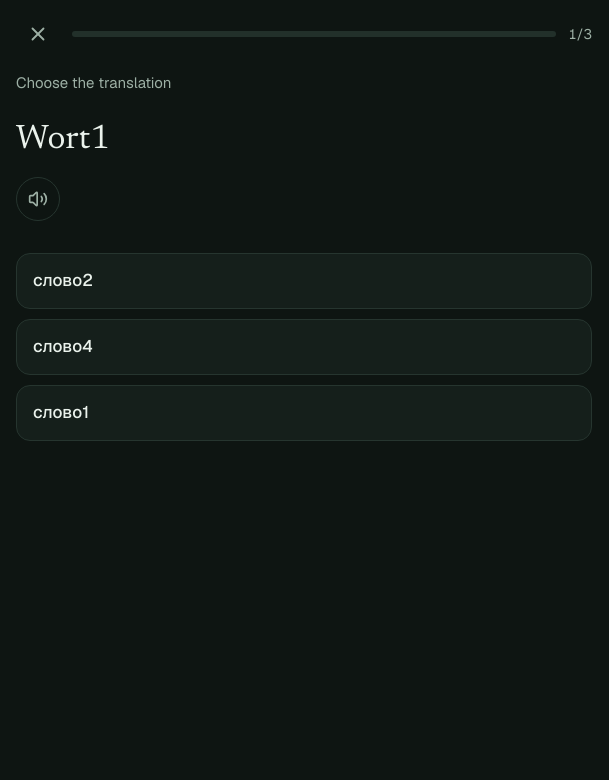
Test: answering a choice question › shows the box: "Box 4 · next review in 7 days" and 4 filled segments of 5
Click the button "слово1" at (61, 412), box [16,385,592,441]
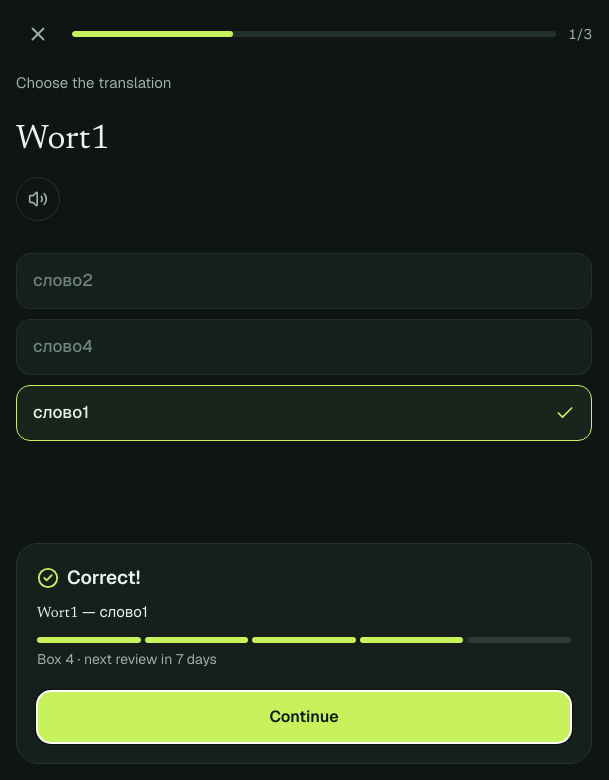
Result: the text "Box 4 · next review in 7 days" is shown at [37,650,217,668]
